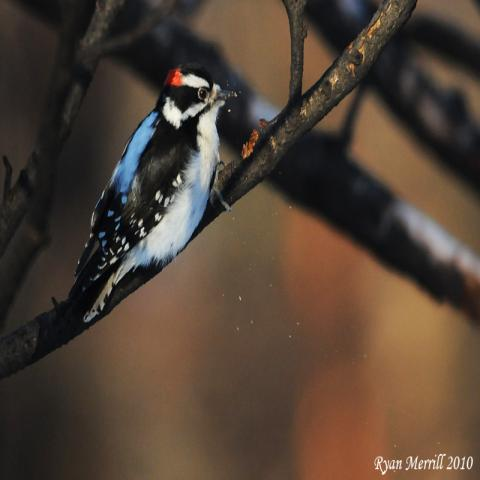bird: (62, 59, 237, 326)
